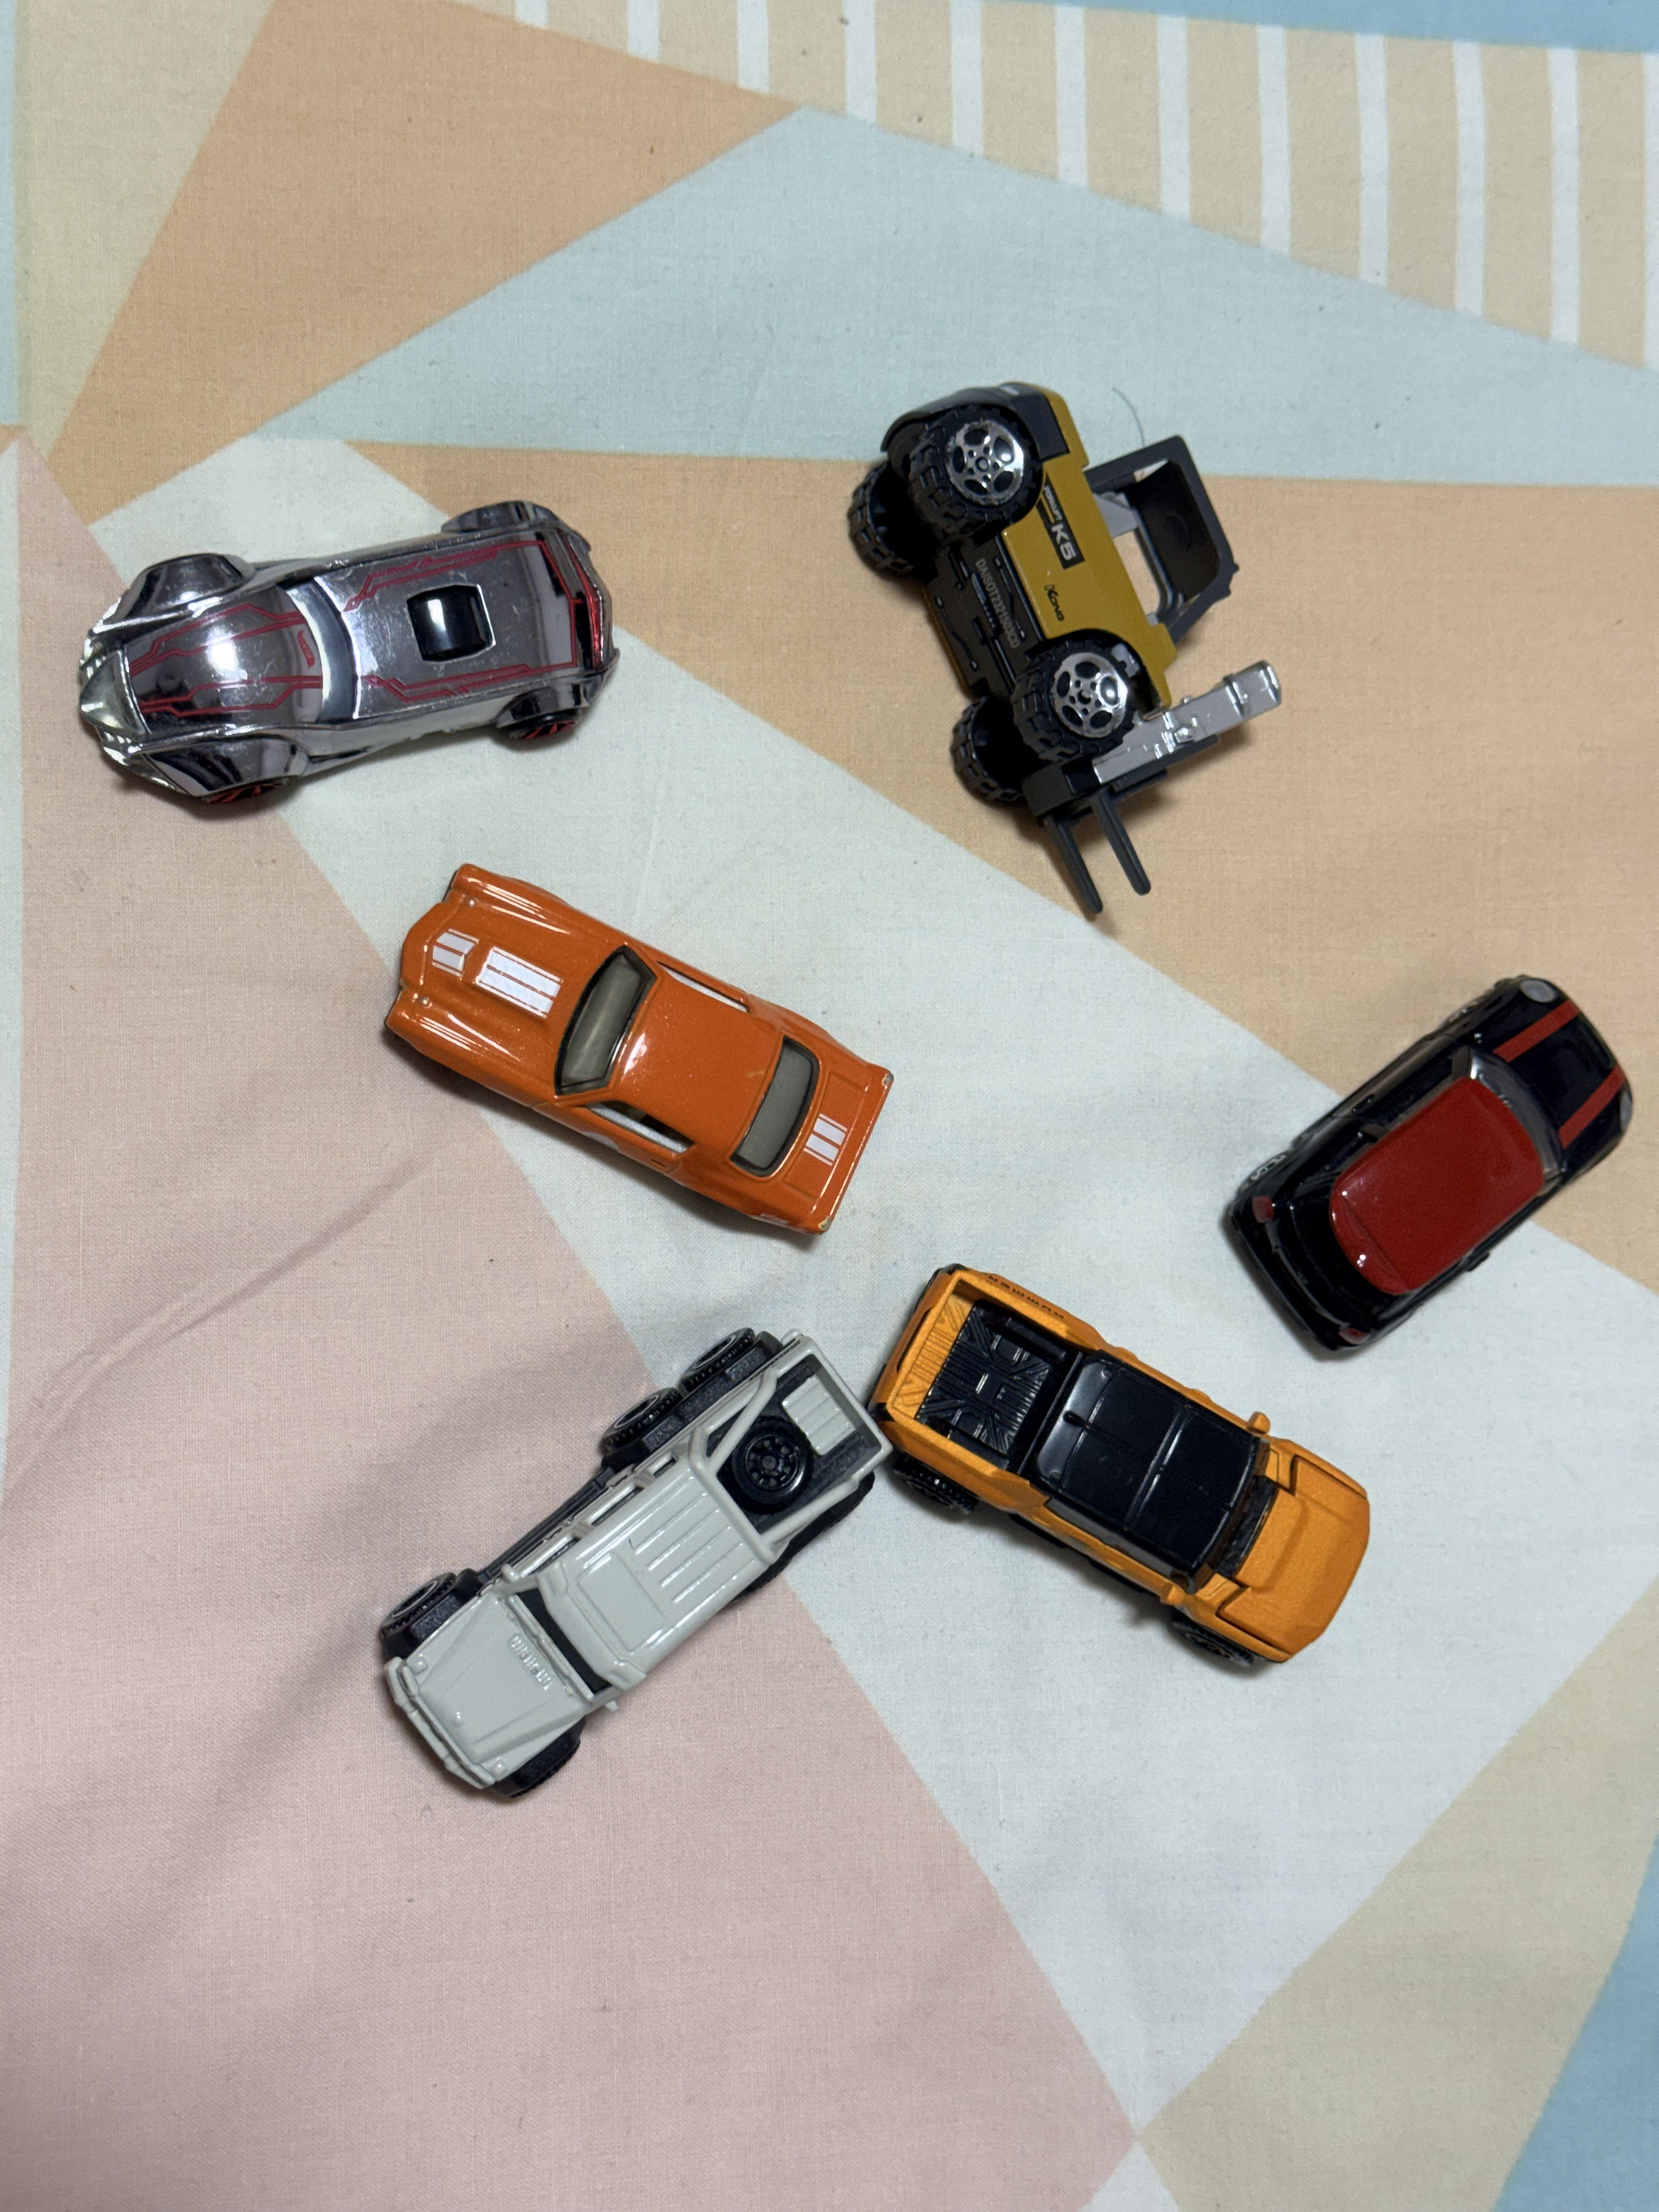camaro_rs: (376, 859, 897, 1245)
dc_comics: (70, 491, 624, 822)
forklift: (842, 373, 1291, 925)
gmc_hummer: (868, 1261, 1377, 1677)
mercedes_benz: (373, 1324, 889, 1810)
mini_cooper: (1218, 970, 1638, 1364)
